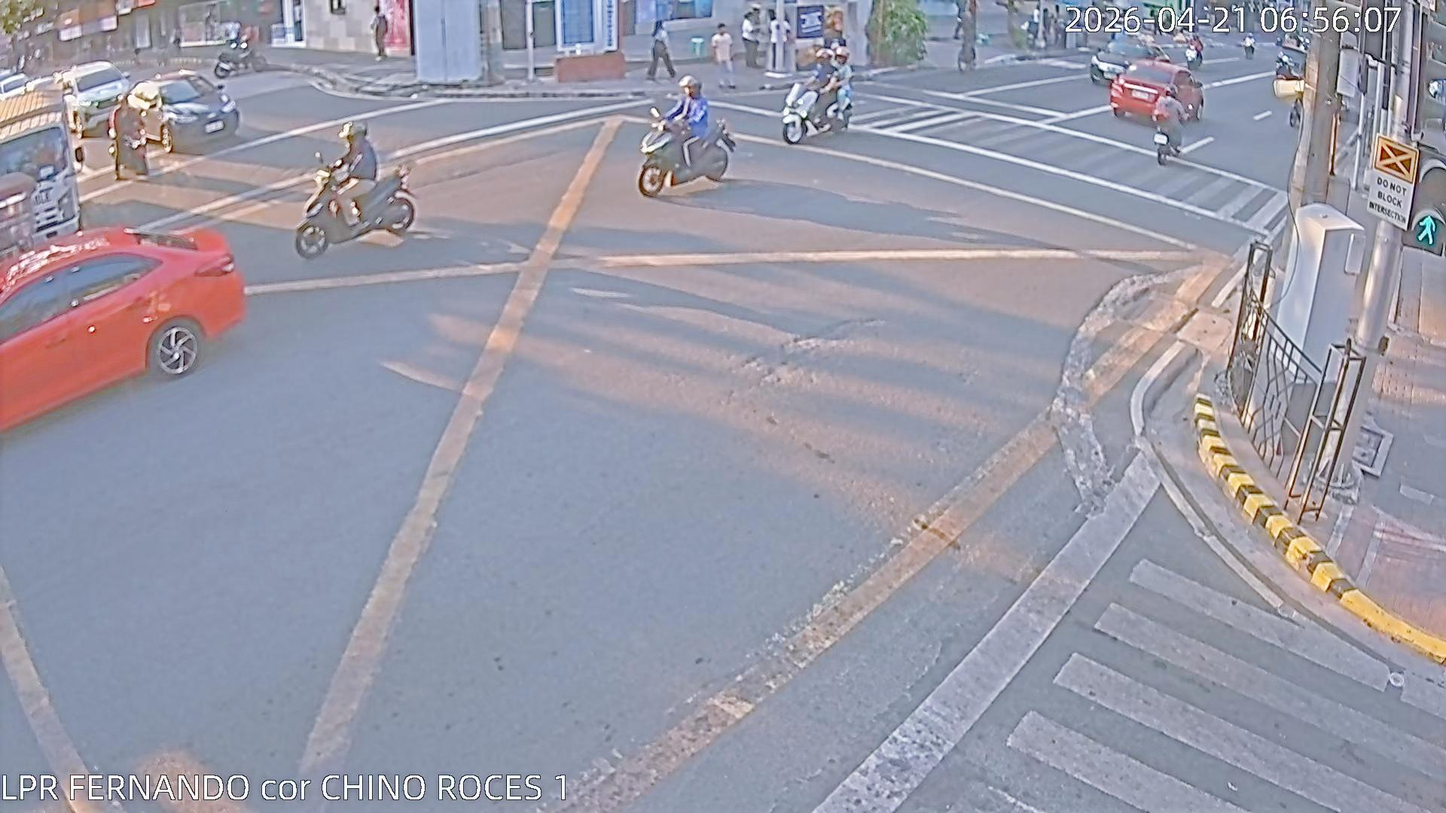Car: (0, 222, 246, 434), (139, 74, 264, 148), (1109, 58, 1207, 128), (36, 61, 130, 131), (1091, 26, 1143, 79)
Motor: (283, 103, 446, 286), (607, 61, 743, 216), (84, 94, 177, 180), (780, 44, 863, 140), (1139, 91, 1205, 171)
